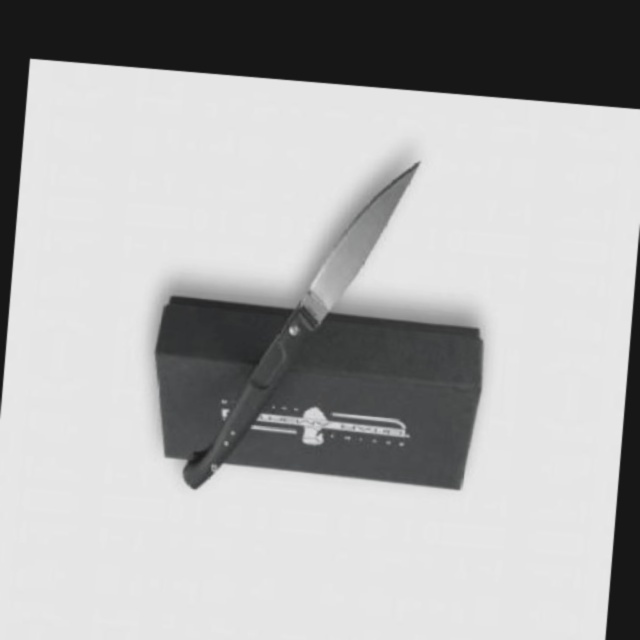Sharp-Object: (183, 144, 423, 508)
